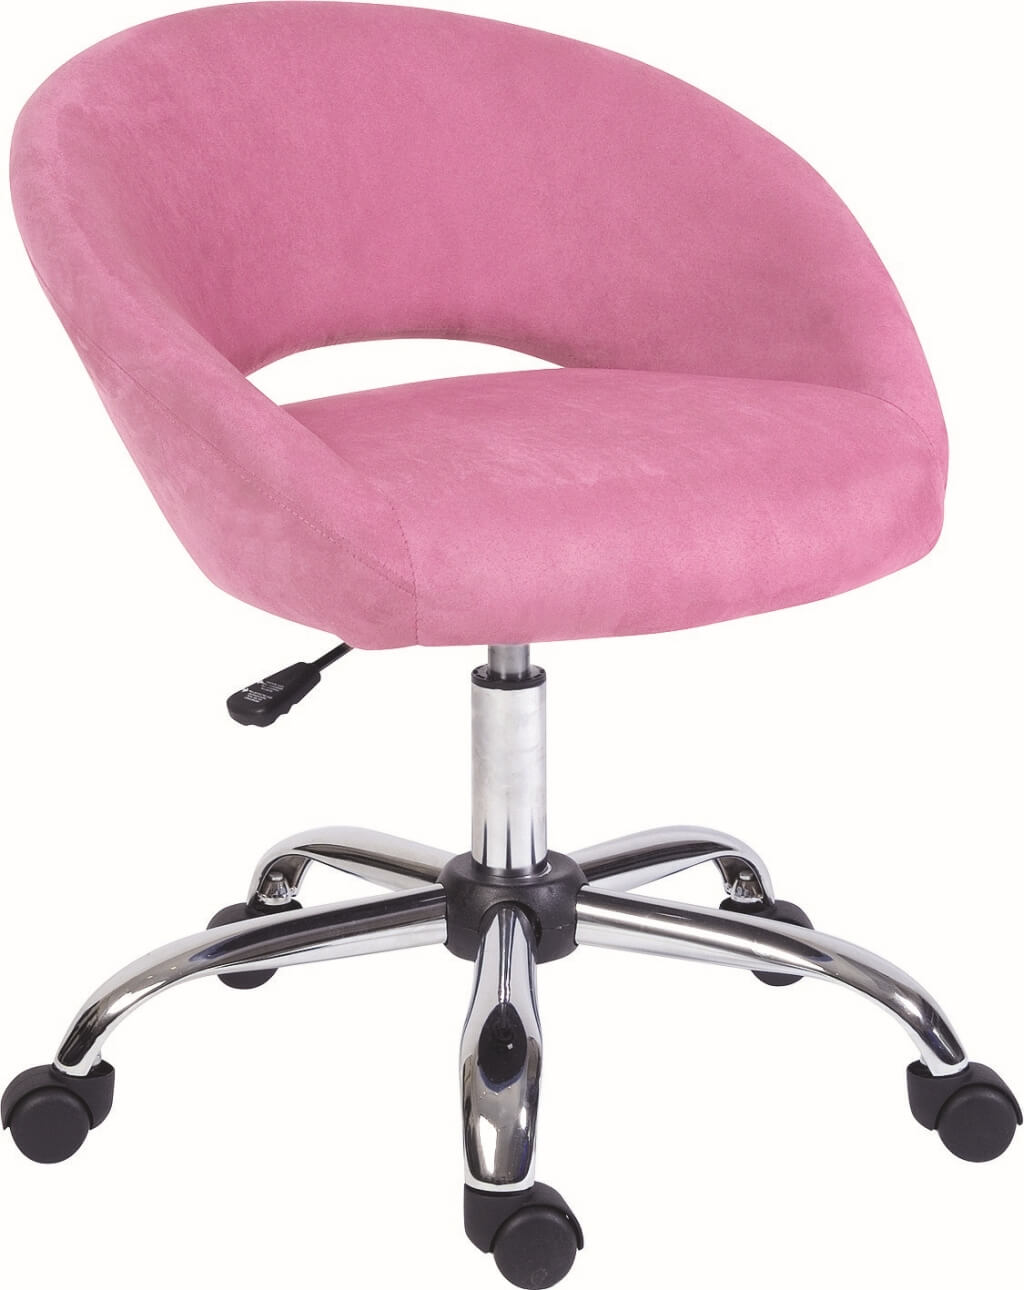chairs: (3, 1, 1024, 1290)
